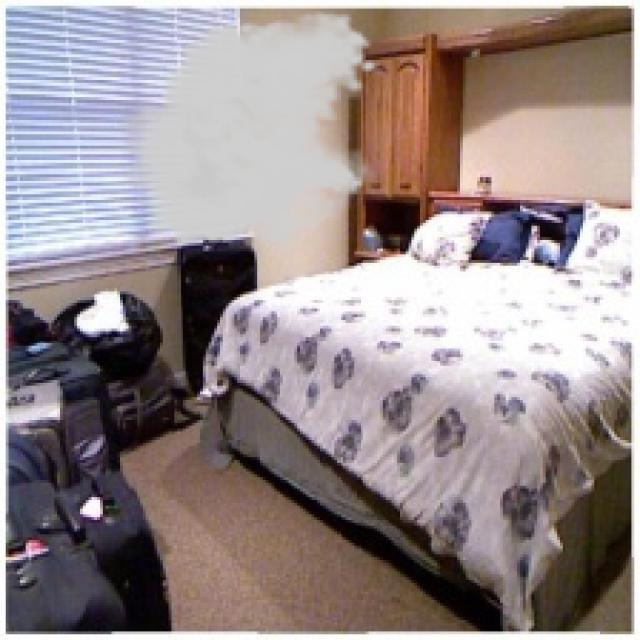smoke: (109, 8, 380, 263)
